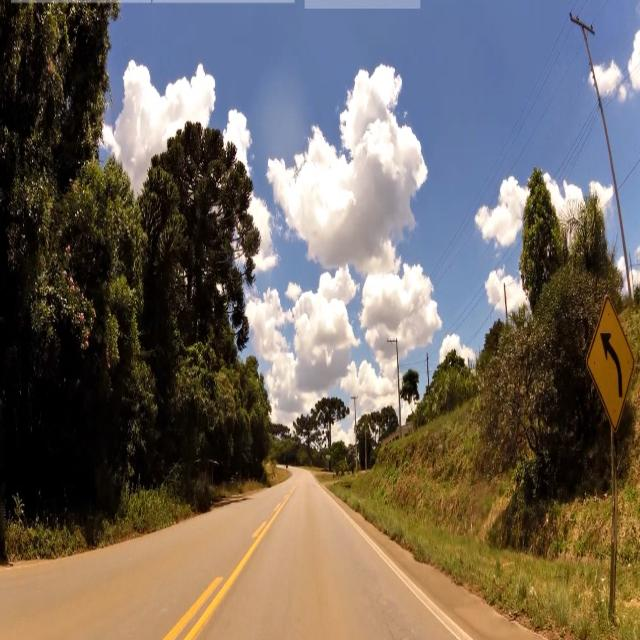A-2a: (586, 296, 636, 439)
